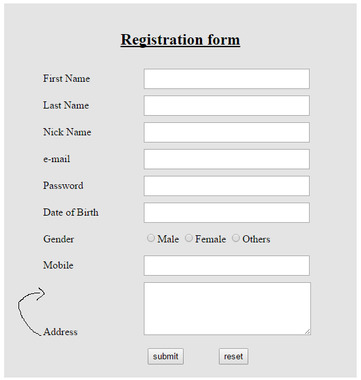_form_: (1, 1, 361, 380)
button: (147, 347, 185, 366), (218, 347, 248, 364)
field: (142, 281, 312, 337), (141, 254, 310, 276), (143, 68, 311, 90), (142, 94, 310, 116), (142, 148, 310, 170), (142, 175, 310, 197), (142, 201, 310, 223), (141, 122, 311, 143)
field_with_label: (42, 120, 313, 145), (43, 66, 313, 91), (42, 146, 312, 171), (43, 200, 312, 225), (42, 93, 312, 117), (42, 174, 312, 198), (43, 253, 312, 277)
radio: (184, 231, 196, 244), (146, 232, 157, 244), (232, 232, 243, 243)
radio_with_label: (182, 229, 227, 246), (231, 230, 272, 246), (144, 229, 178, 246)
